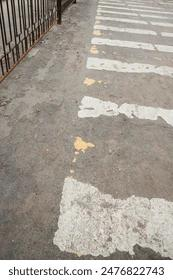faded_road_lines: (43, 172, 173, 261), (78, 89, 173, 133), (96, 0, 173, 29), (82, 55, 173, 78), (90, 37, 173, 53), (90, 24, 173, 37)
